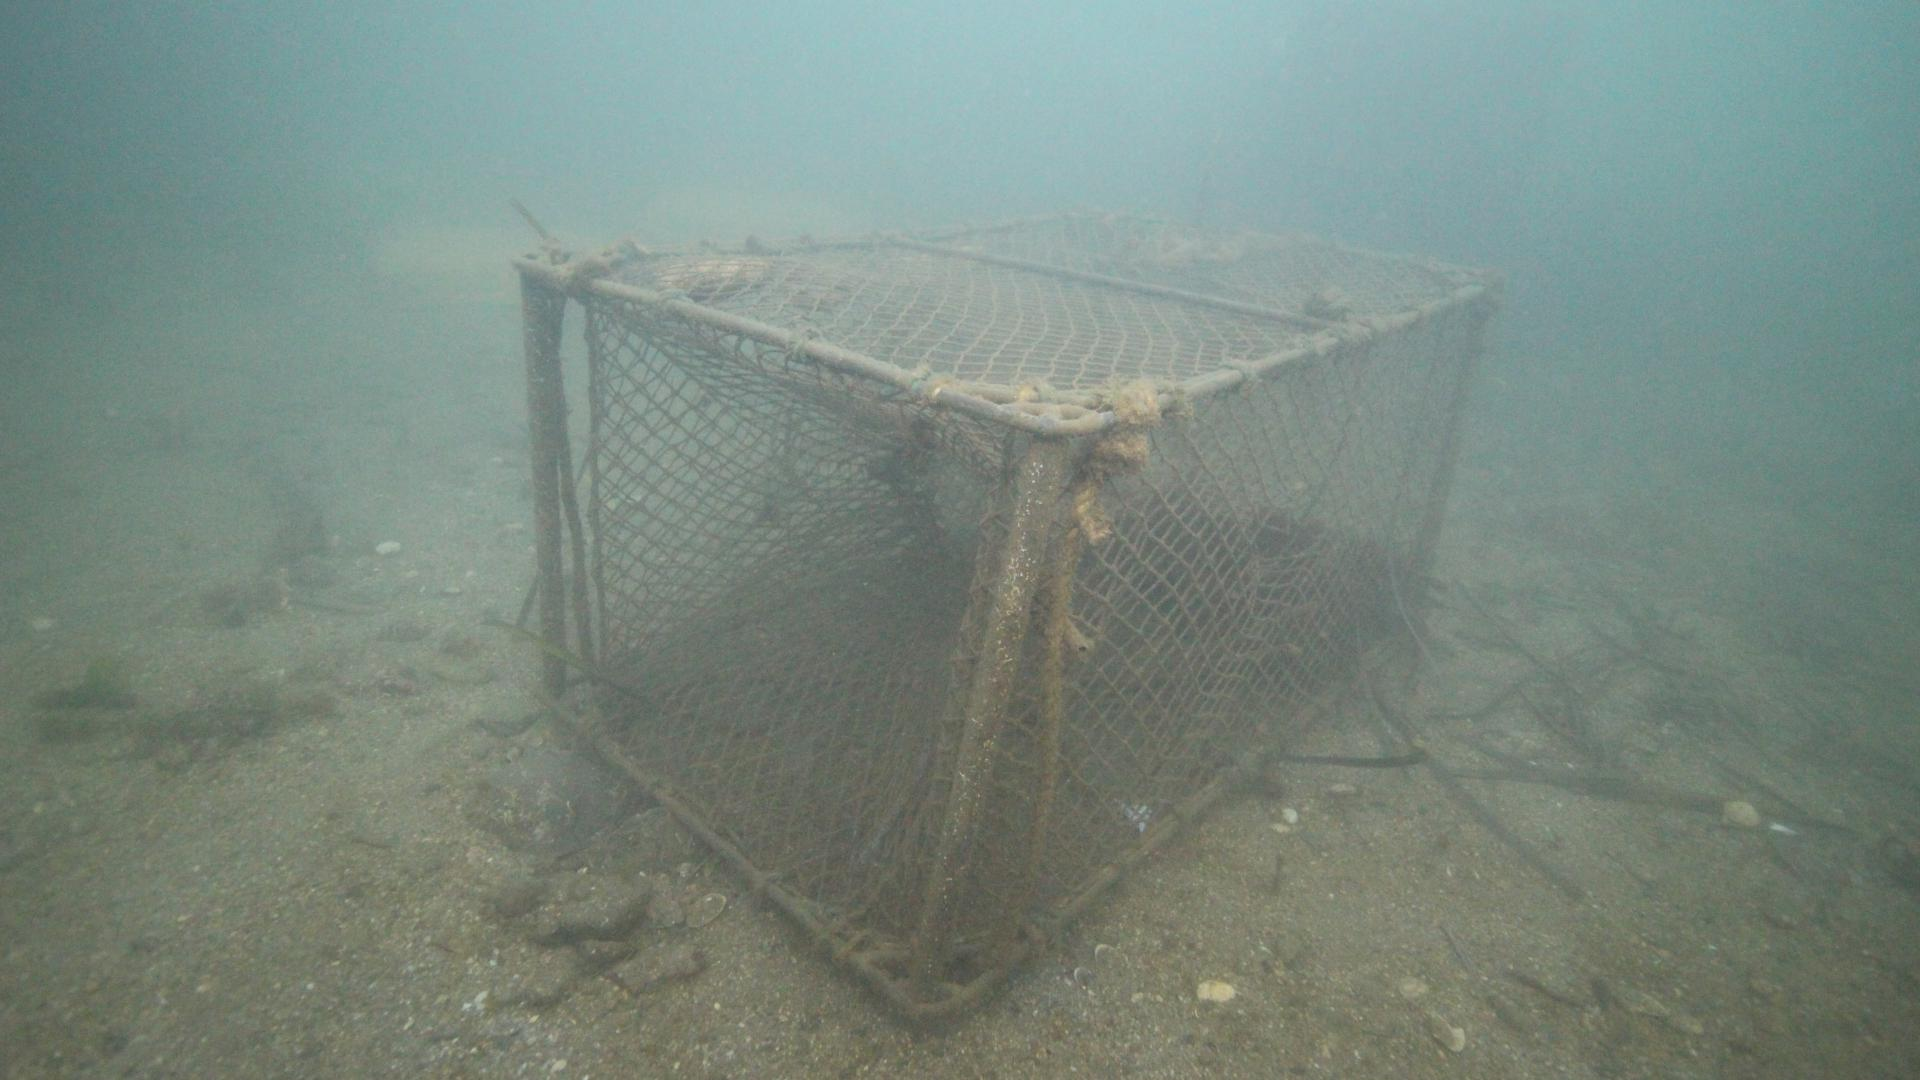rectangular fish trap: (508, 198, 1509, 1030)
